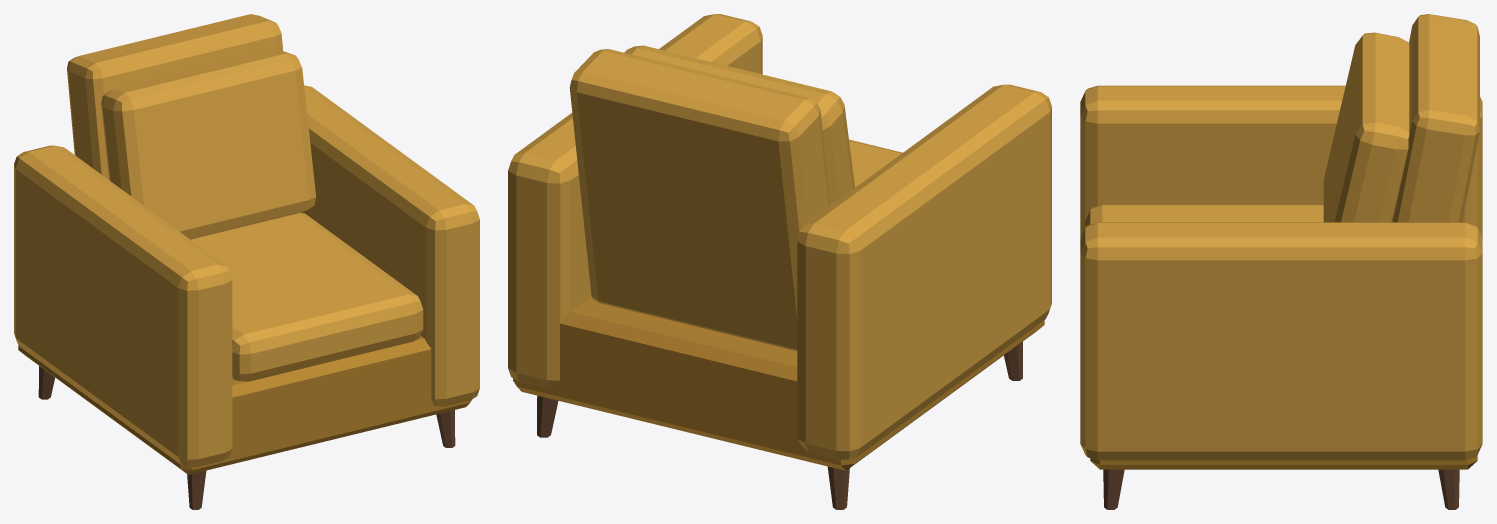
Rendered from mi_armchair.glb.
3 views of the same model, side by side, from view 1: azimuth 30°, elevation 25°; view 2: azimuth 150°, elevation 25°; view 3: azimuth 270°, elevation 25° (orthographic). The views are drawn at different scales.
Visible parts, largest first — view 1: SM_Living_Armchair; view 2: SM_Living_Armchair; view 3: SM_Living_Armchair.
Boxes of the visible parts, bbox=[...] form: SM_Living_Armchair: bbox=[14, 14, 479, 509]; SM_Living_Armchair: bbox=[508, 14, 1051, 509]; SM_Living_Armchair: bbox=[1080, 14, 1482, 509].
Size of the model in its own units: 0.8 by 0.8443 by 0.82.
1 material, 1 textured.
